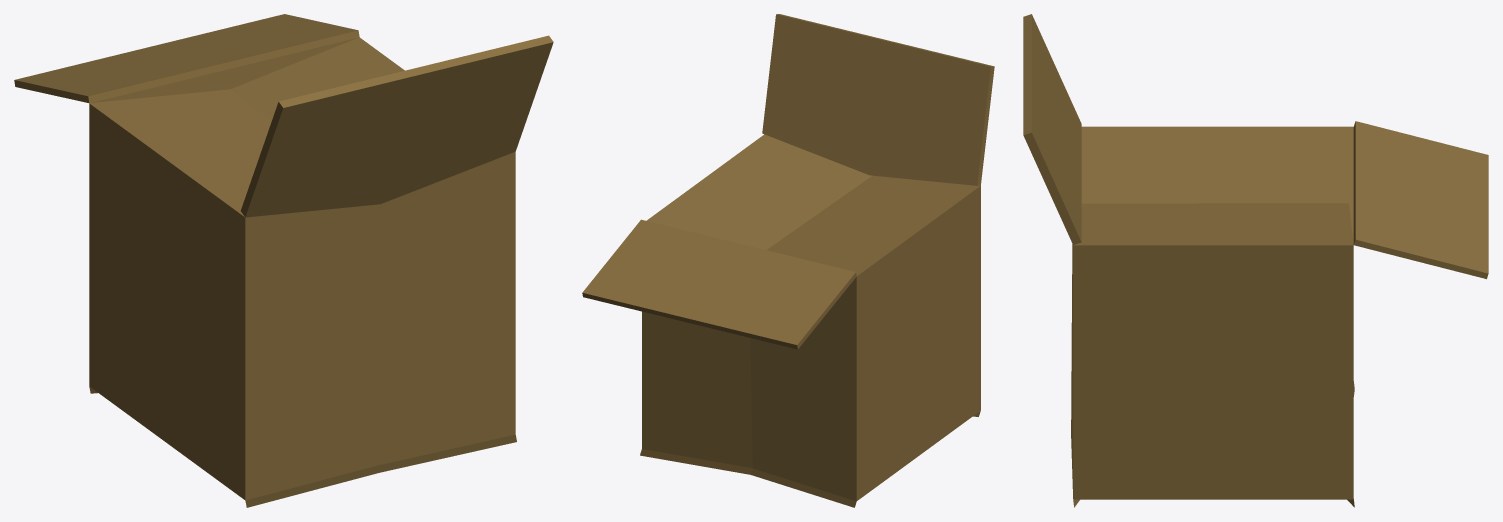
File: kardus.fbx
The picture shows the model from 3 angles, left to right: view 1: azimuth 30°, elevation 25°; view 2: azimuth 150°, elevation 25°; view 3: azimuth 270°, elevation 25°; orthographic projection. The views are drawn at different scales.
Parts seen in each view (by area): view 1: Cube; view 2: Cube; view 3: Cube.
Boxes of the visible parts, left/top/right/bottom form: Cube: left=14, top=14, right=553, bottom=507; Cube: left=582, top=14, right=994, bottom=507; Cube: left=1023, top=14, right=1488, bottom=507.
Size of the model in its own units: 112 by 161 by 179.
